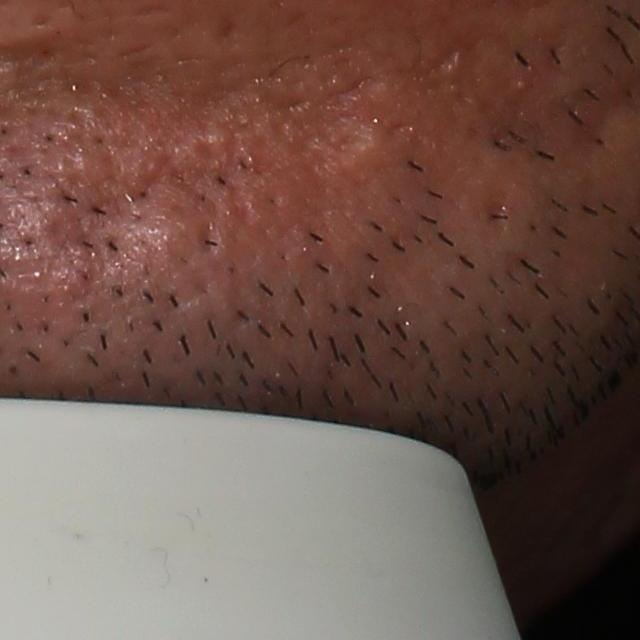atrophic_scar: (44, 141, 226, 278), (260, 79, 375, 180), (392, 48, 463, 101)
hypertrophic_scar: (336, 126, 404, 177)
